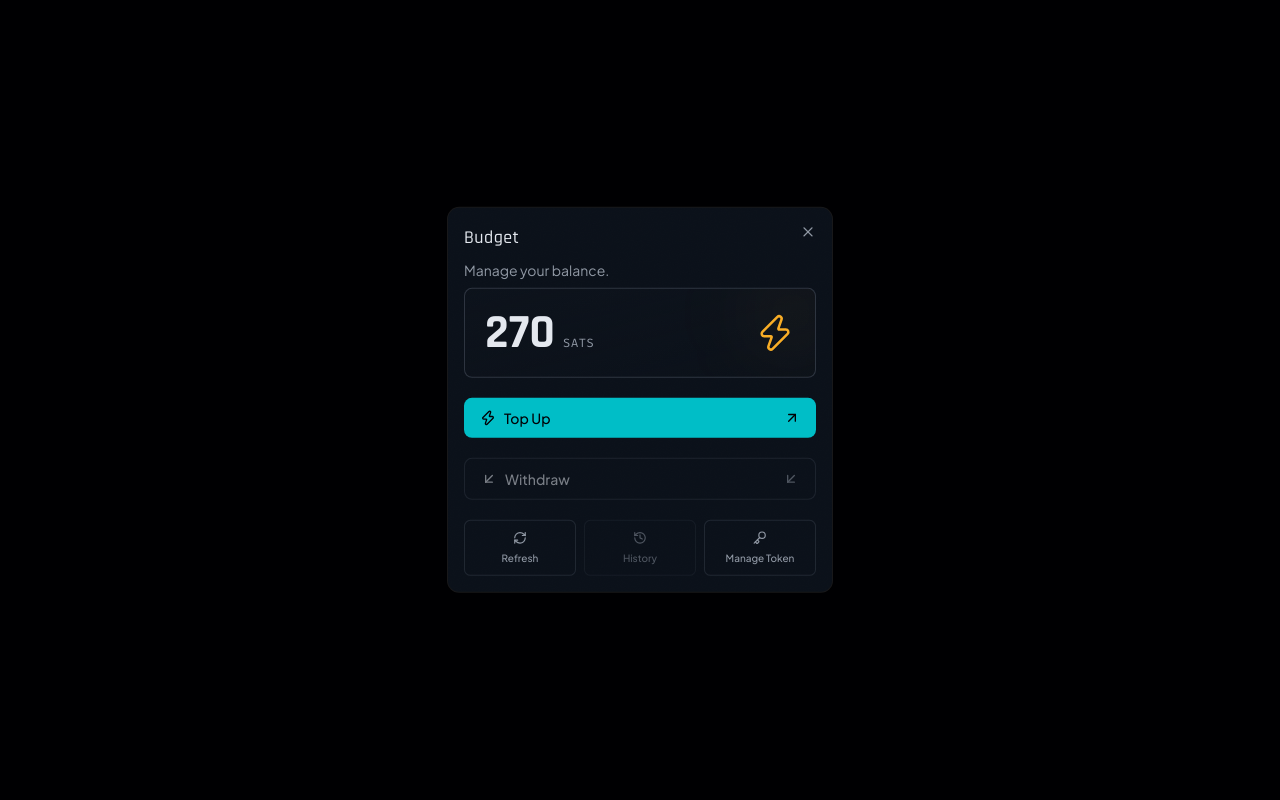
Test: BudgetModal success screen delta › shows +N sats added from firstPurchaseAmount after first-purchase QR flow
// Click Top Up → first-purchase step
Click the button "Top Up".
click(527, 418)  # box top-left (464, 398), bottom-right (816, 438)
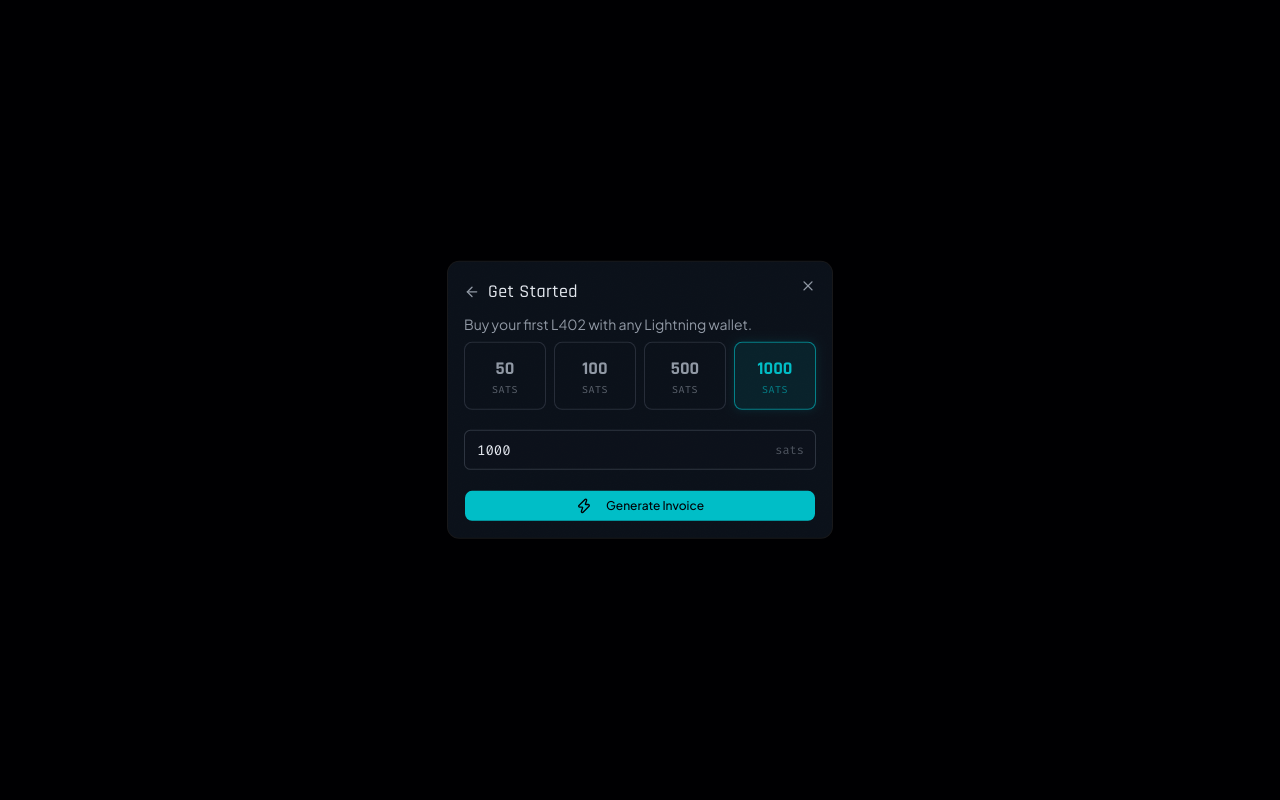
expect the heading "Get Started" is shown: met, box top-left (464, 280), bottom-right (578, 303)
// Set custom amount to 500
Replace the text in the field with placeholder "Custom amount" with "500" at (640, 450), box top-left (464, 430), bottom-right (816, 470)
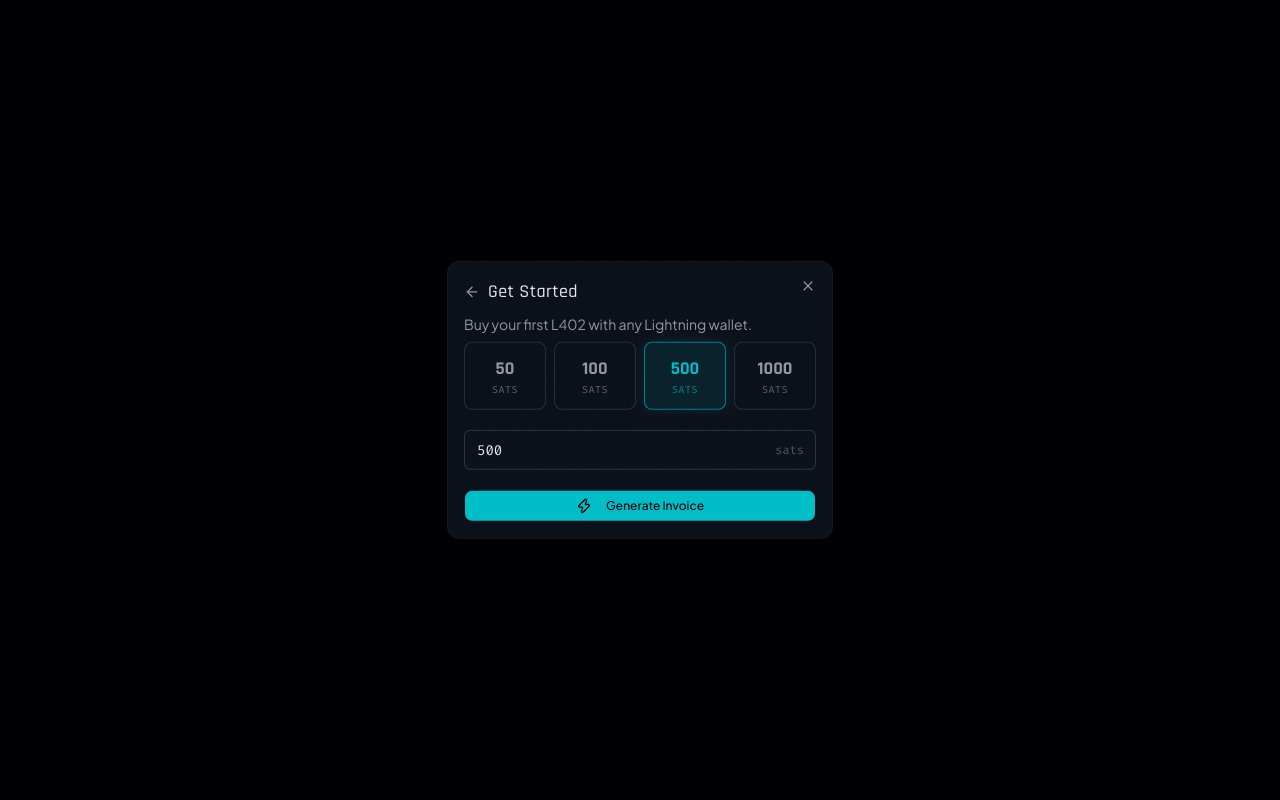
// Click Generate Invoice
Click the button "Generate Invoice".
click(640, 506)  # box top-left (464, 490), bottom-right (816, 522)
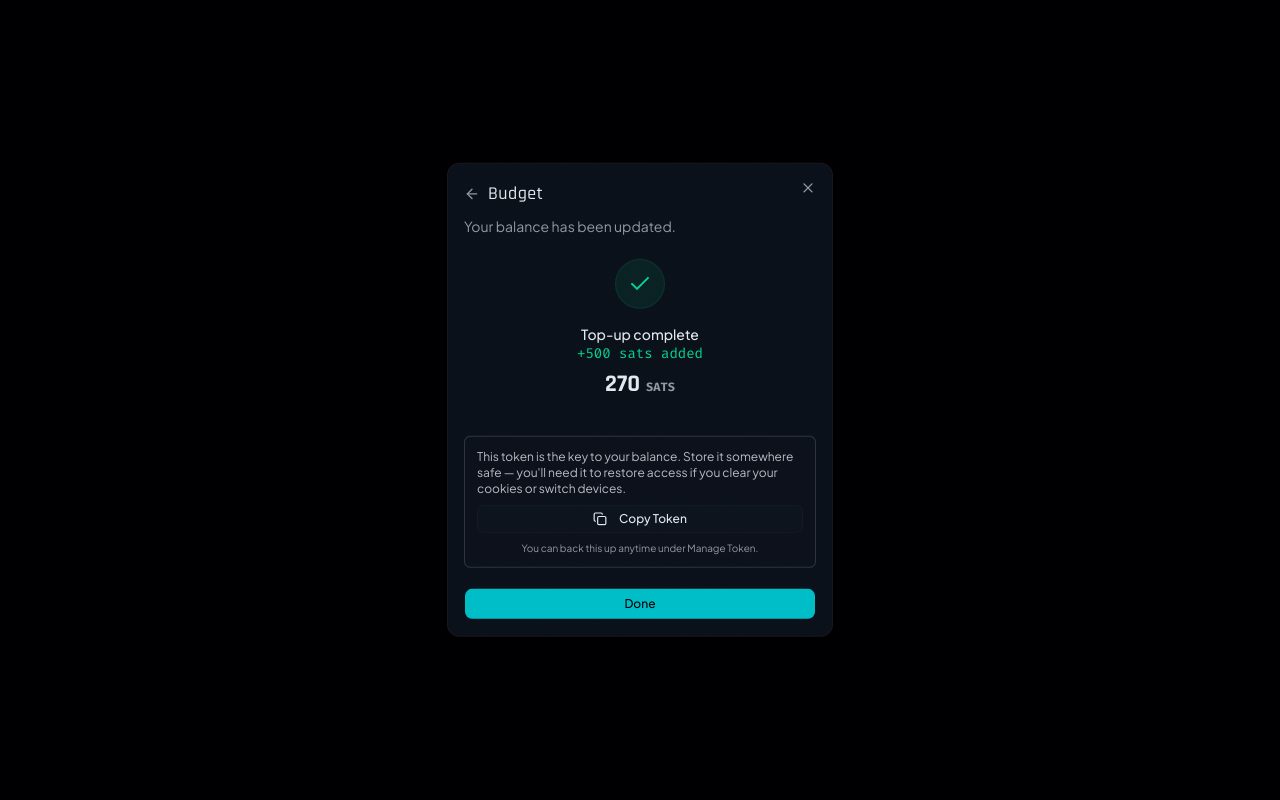
expect the text "Top-up complete" is shown: met, box top-left (577, 324), bottom-right (703, 344)
expect the text "+500 sats added" is shown: met, box top-left (577, 344), bottom-right (703, 364)
